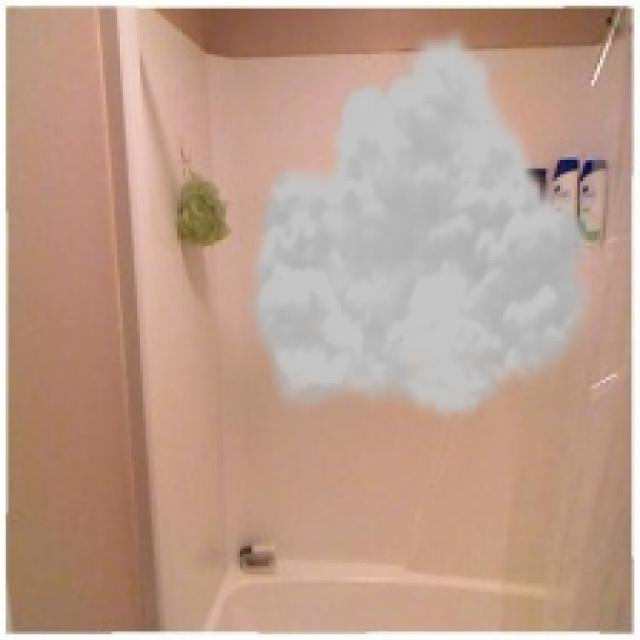Smoke: (243, 23, 603, 423)
